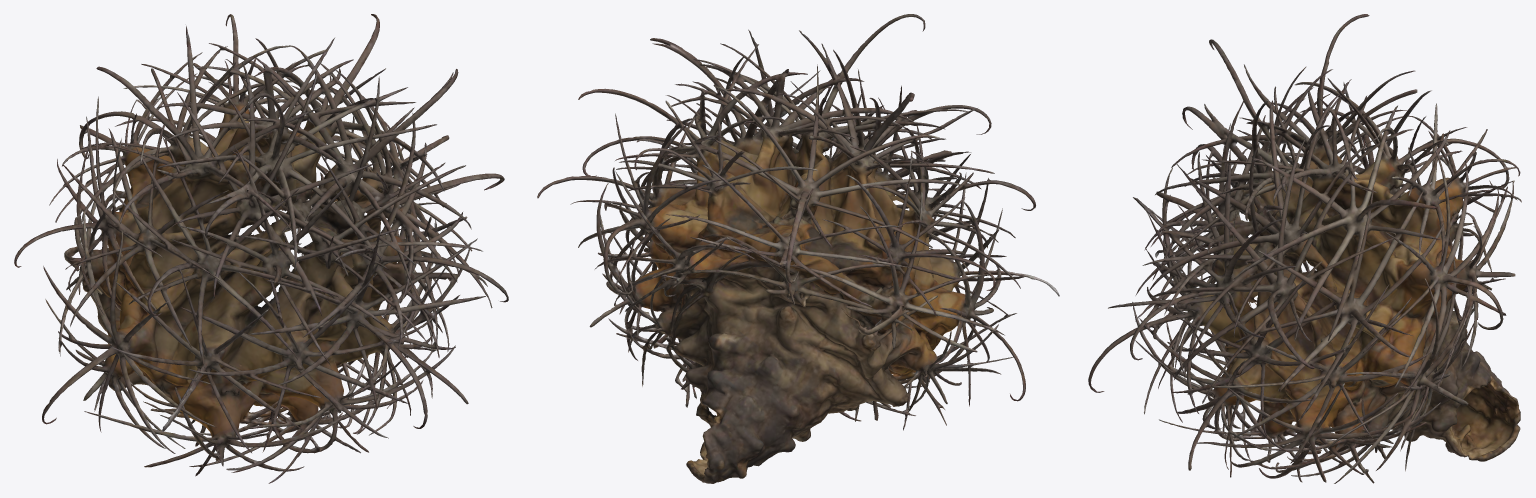
File: biznaga.glb
3 renders of one model, left to right at view 1: azimuth 30°, elevation 25°; view 2: azimuth 150°, elevation 25°; view 3: azimuth 270°, elevation 25°, orthographic. The views are drawn at different scales.
Visible parts, largest first — view 1: Ferocactus_wislizeni_-Engelm--_Britton_-_Rose-unwrapped-webm; view 2: Ferocactus_wislizeni_-Engelm--_Britton_-_Rose-unwrapped-webm; view 3: Ferocactus_wislizeni_-Engelm--_Britton_-_Rose-unwrapped-webm.
Boxes of the visible parts, x1,y1,x2,y2 form: Ferocactus_wislizeni_-Engelm--_Britton_-_Rose-unwrapped-webm: (14,14,508,483); Ferocactus_wislizeni_-Engelm--_Britton_-_Rose-unwrapped-webm: (537,14,1059,483); Ferocactus_wislizeni_-Engelm--_Britton_-_Rose-unwrapped-webm: (1088,14,1521,483).
Size of the model in its own units: 0.2236 by 0.1873 by 0.1893.
1 material, 1 textured.
